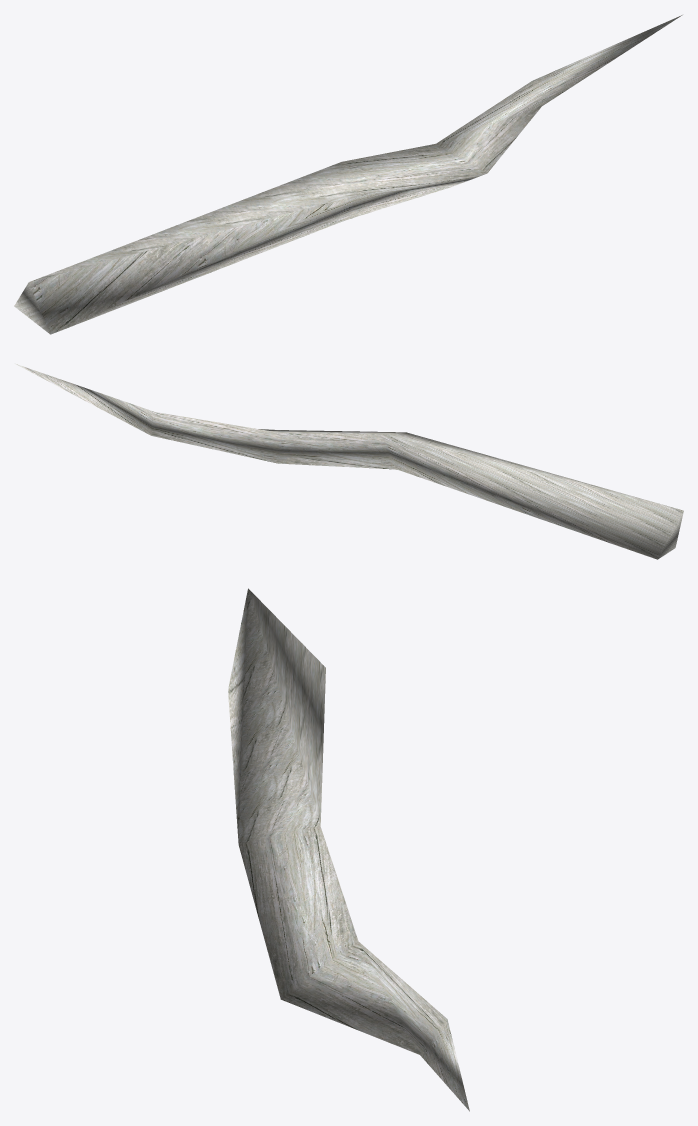
The model's file is shor_driftwood_a3_l2.fbx.
3 renders of one model, top to bottom at view 1: azimuth 30°, elevation 25°; view 2: azimuth 150°, elevation 25°; view 3: azimuth 270°, elevation 25°, orthographic. The views are drawn at different scales.
Visible parts, largest first — view 1: mesh_node; view 2: mesh_node; view 3: mesh_node.
Part boxes in pixels (x1=…): mesh_node: x1=14, y1=15, x2=682, y2=334; mesh_node: x1=15, y1=363, x2=683, y2=559; mesh_node: x1=228, y1=588, x2=469, y2=1111.
Bounding box in the file's own units: 6.84 × 0.8763 × 1.17.
